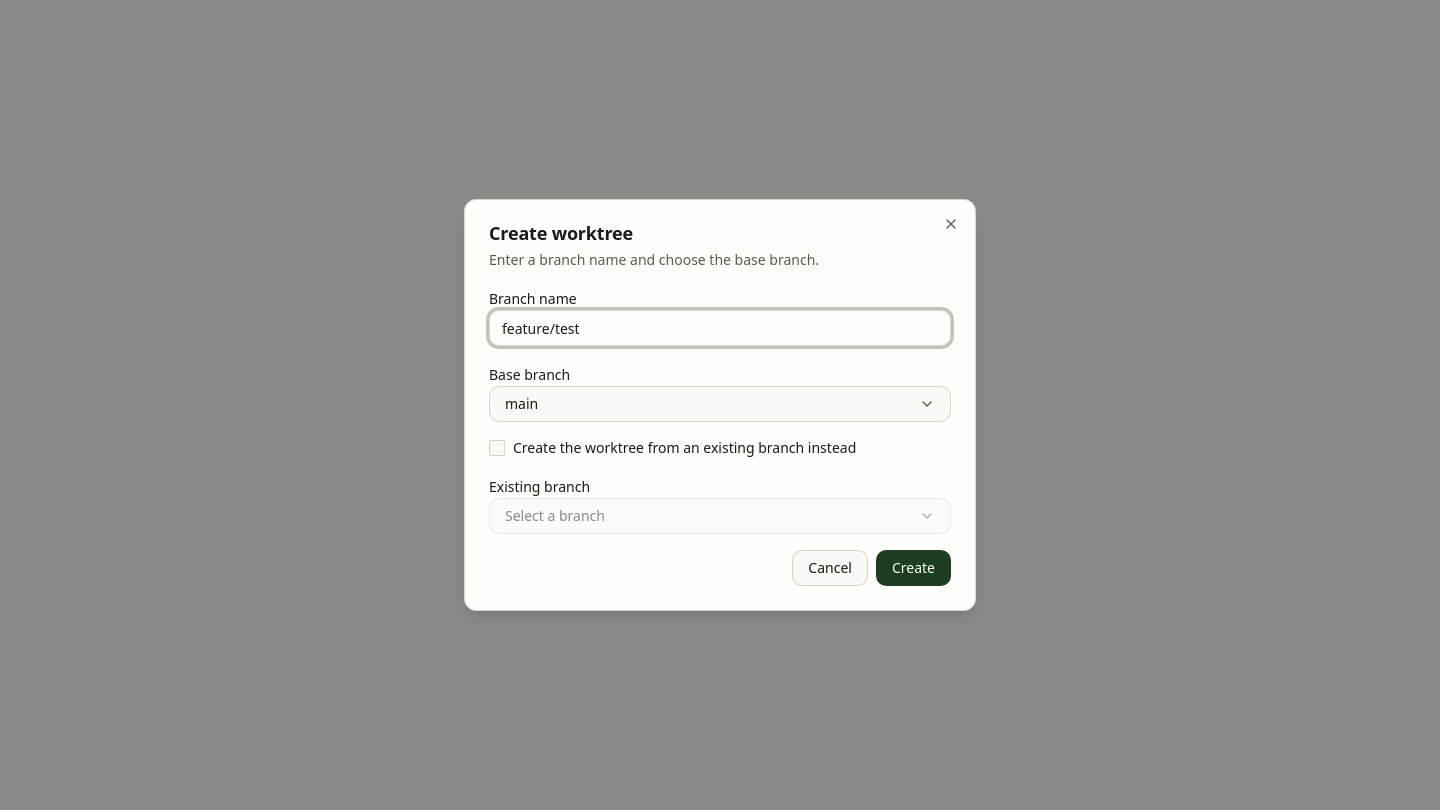
it: CreateWorktreeModal › disables branch name and base branch when using an existing branch
The image size is (1440, 810).
Click the checkbox named "Create the worktree from an existing branch instead" at [497, 448], box 489,440 -> 505,456
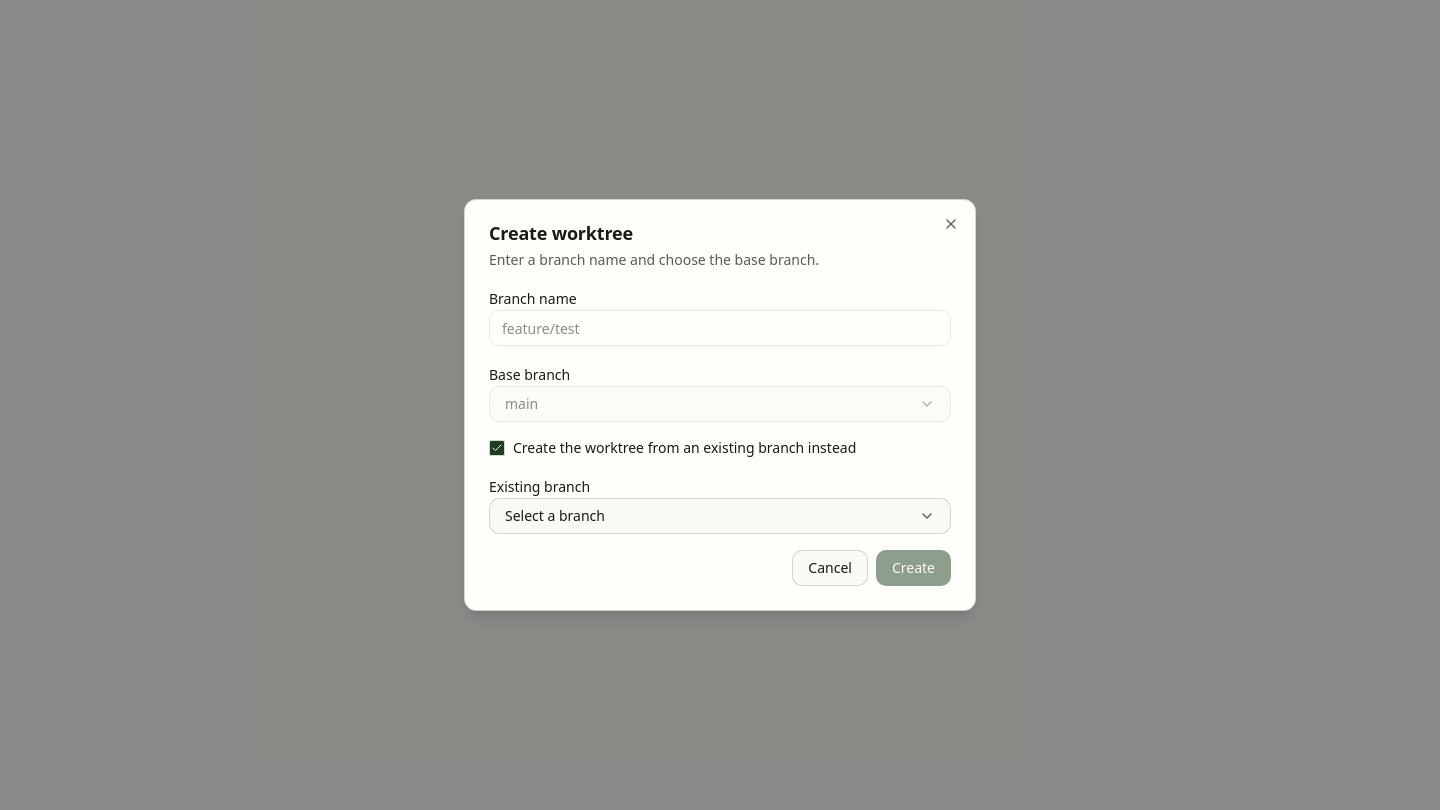
Check: the field labelled "Branch name" is disabled, box 489,310 -> 951,346
Check: the button with aria-label "Select base branch" is disabled, box 489,386 -> 951,422
Check: the button with aria-label "Select existing branch" is enabled, box 489,498 -> 951,534
